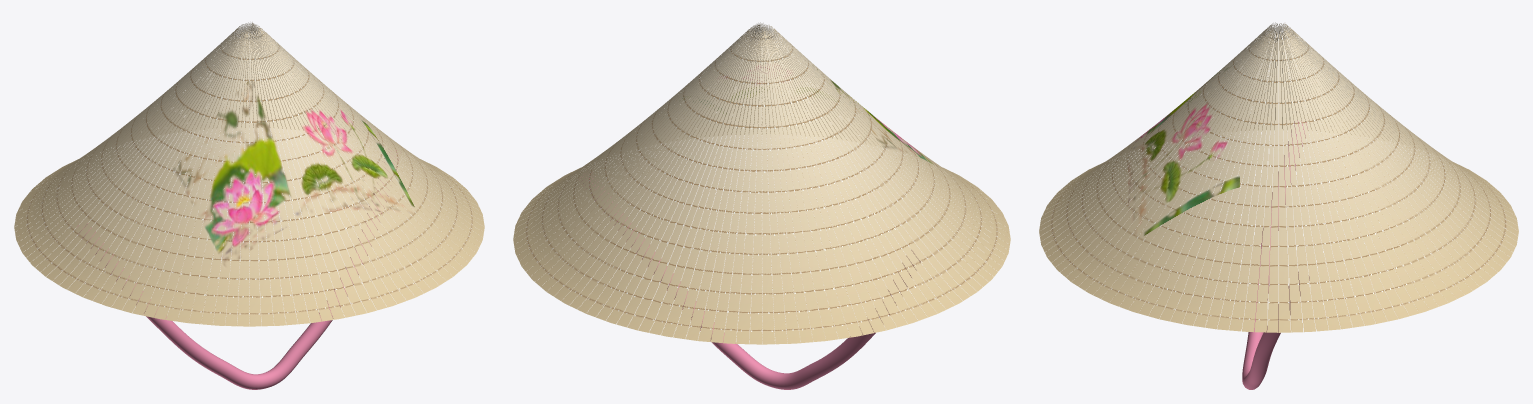
File: non_la_theu_sen_v3.obj
3 renders of one model, left to right at view 1: azimuth 30°, elevation 25°; view 2: azimuth 150°, elevation 25°; view 3: azimuth 270°, elevation 25°, orthographic. The views are drawn at different scales.
Visible parts, largest first — view 1: Non_La_Theu_Sen_V3, Quai_Lua_Hong; view 2: Non_La_Theu_Sen_V3, Quai_Lua_Hong; view 3: Non_La_Theu_Sen_V3, Quai_Lua_Hong.
Part boxes in pixels (box(x1,y1,x2,y2)): Non_La_Theu_Sen_V3: box(14, 22, 484, 326); Quai_Lua_Hong: box(77, 150, 398, 389); Non_La_Theu_Sen_V3: box(513, 22, 1010, 344); Quai_Lua_Hong: box(582, 177, 920, 389); Non_La_Theu_Sen_V3: box(1039, 22, 1518, 332); Quai_Lua_Hong: box(1242, 120, 1309, 389).
Size of the model in its own units: 0.416 by 0.3548 by 0.416.
2 materials, 1 textured.
